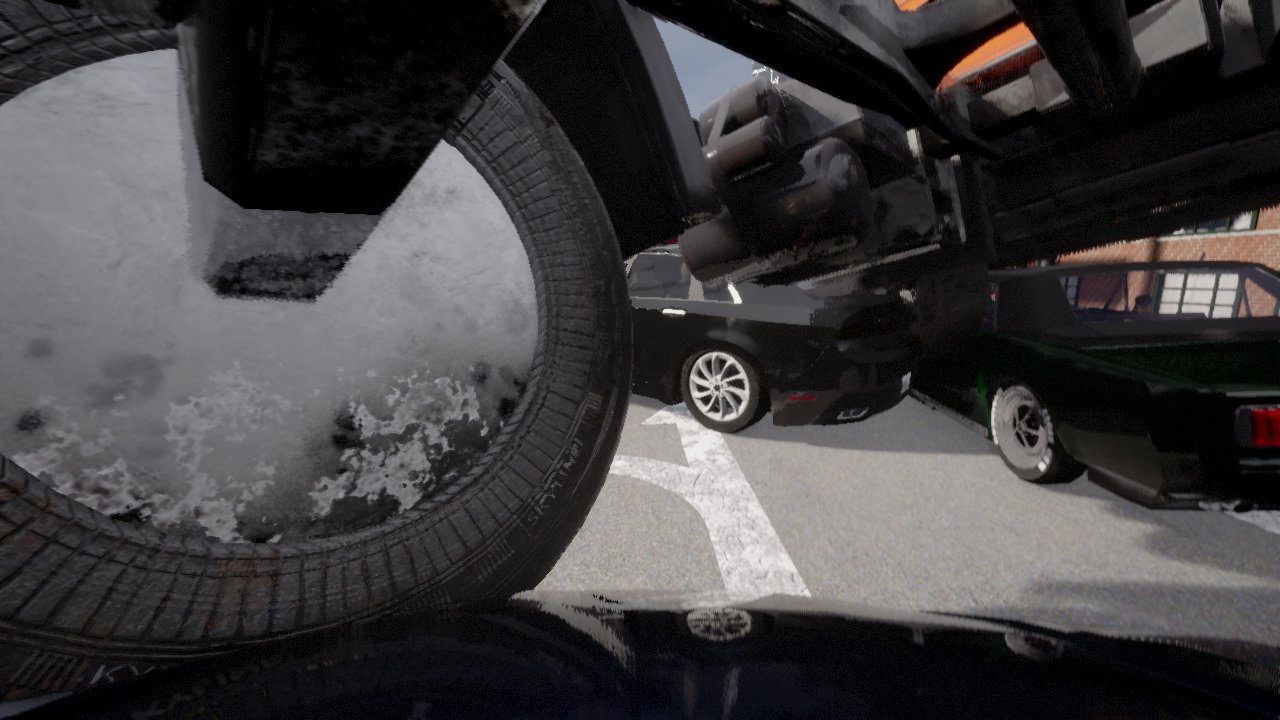cyclist: (0, 588, 1279, 719), (908, 260, 1279, 513), (623, 243, 918, 432), (662, 237, 677, 243)
